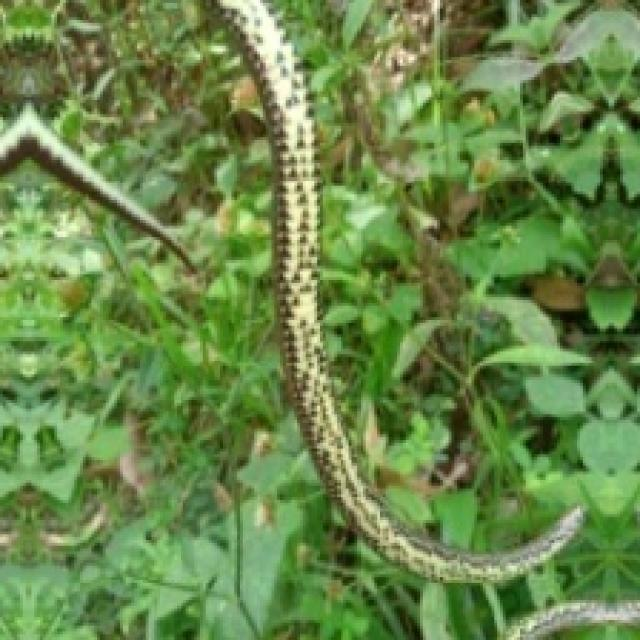reinhardts lined snake: (214, 0, 583, 580)
